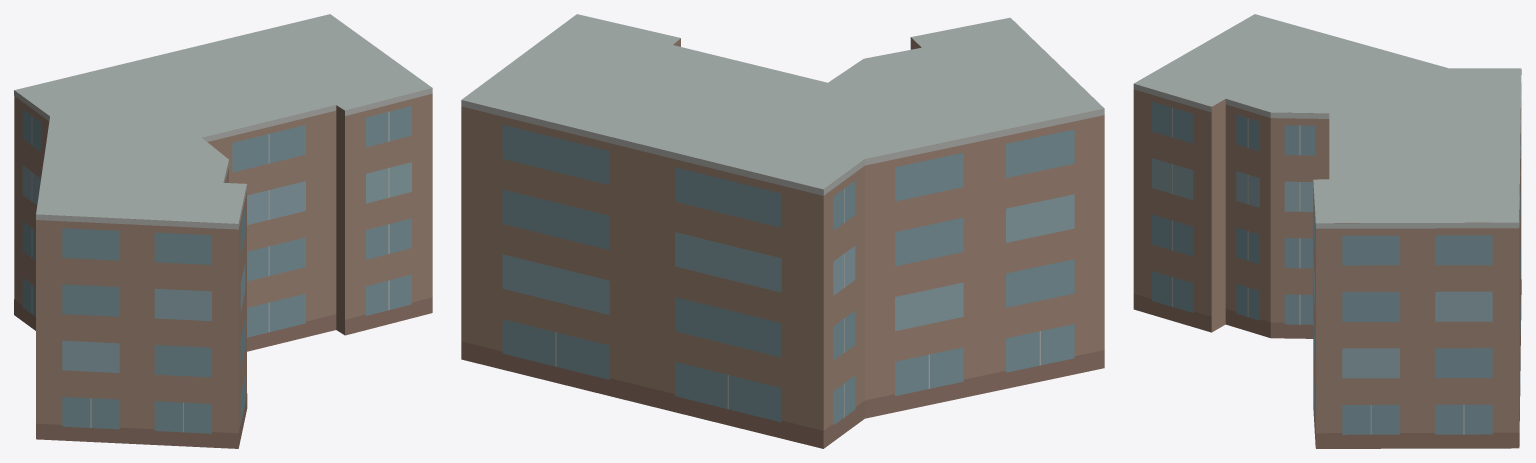
Rendered from survey-upis-32681064.glb.
3 renders of one model, left to right at view 1: azimuth 30°, elevation 25°; view 2: azimuth 150°, elevation 25°; view 3: azimuth 270°, elevation 25°, orthographic. The views are drawn at different scales.
Parts seen in each view (by area): view 1: survey-upis-32681064.tmp; view 2: survey-upis-32681064.tmp; view 3: survey-upis-32681064.tmp.
Boxes of the visible parts, <box> form: survey-upis-32681064.tmp: <box>14,14,432,448</box>; survey-upis-32681064.tmp: <box>461,14,1104,448</box>; survey-upis-32681064.tmp: <box>1133,14,1521,448</box>.
Size of the model in its own units: 19.49 by 9.8 by 15.27.
